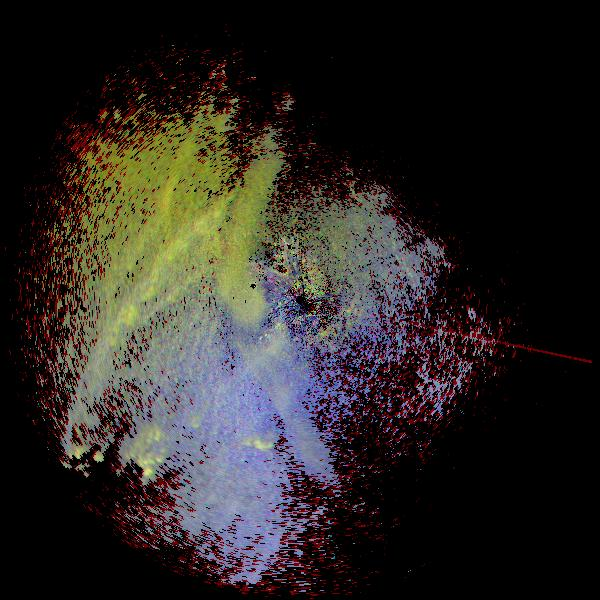roost: (339, 293, 372, 326)
